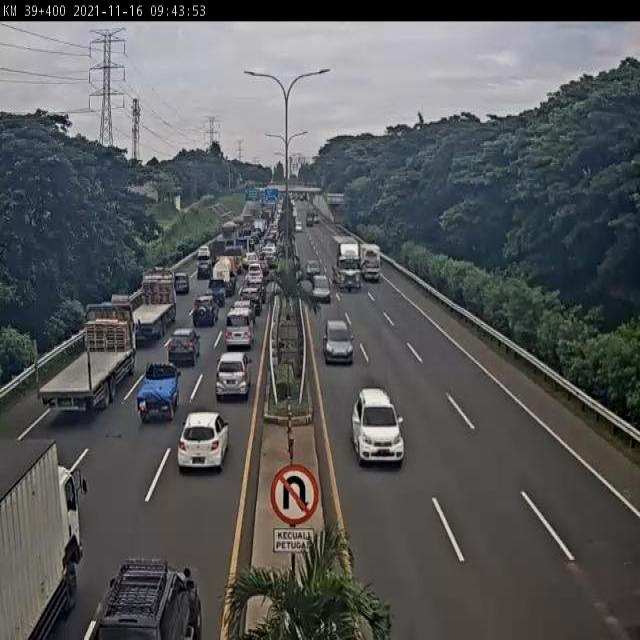Car: (89, 556, 203, 638), (351, 388, 404, 465), (177, 411, 229, 471), (215, 351, 252, 400), (322, 318, 354, 365), (166, 328, 200, 367), (224, 306, 255, 348), (192, 294, 220, 326), (310, 274, 332, 305), (240, 286, 262, 316), (174, 272, 190, 294), (305, 260, 321, 280), (296, 222, 302, 232)
Truck: (2, 441, 81, 639), (38, 298, 135, 414), (132, 268, 178, 342), (334, 240, 361, 290), (360, 243, 381, 282)
